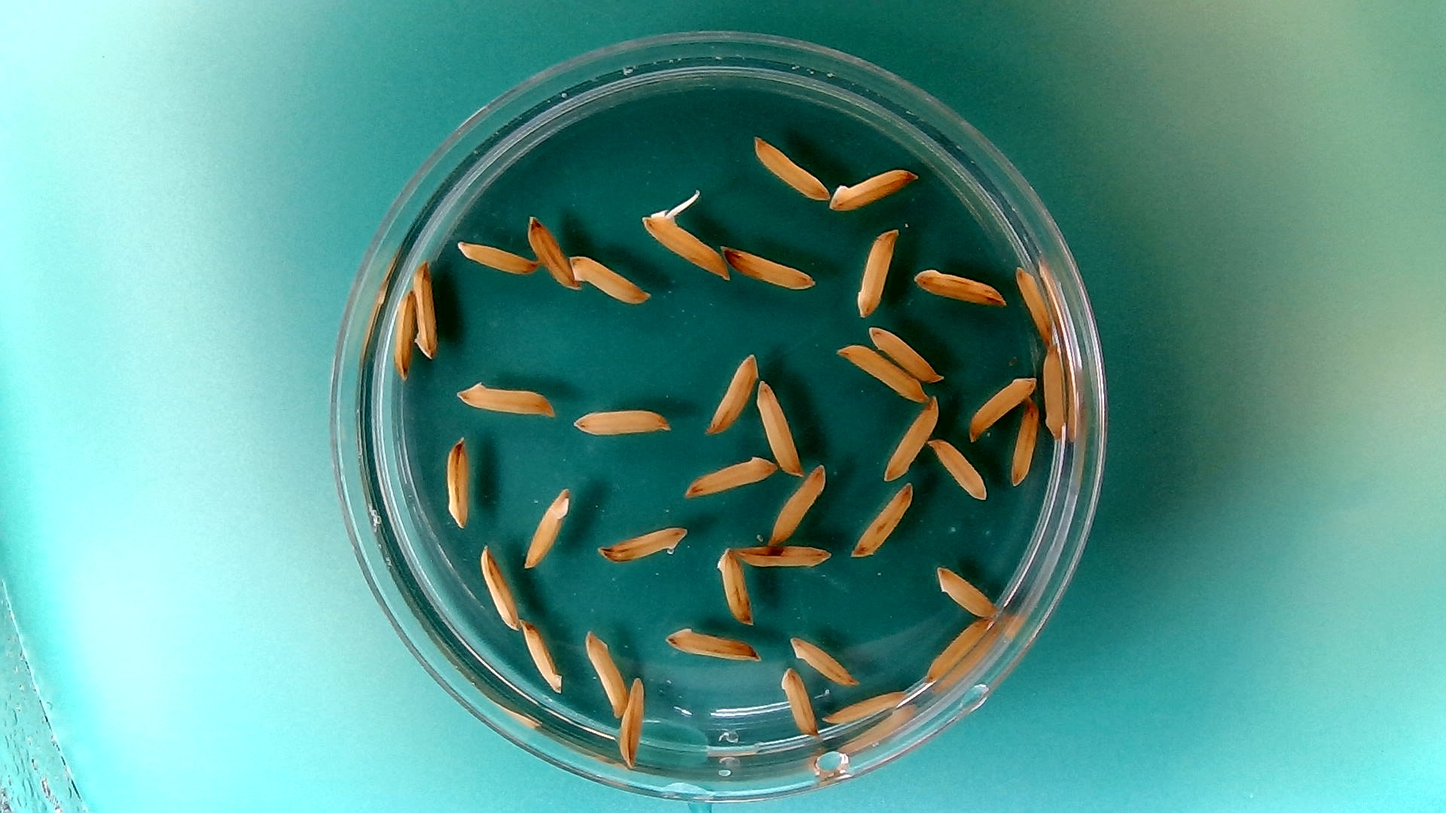no: (751, 133, 830, 202), (834, 342, 927, 399), (880, 393, 939, 481), (850, 480, 914, 559), (923, 614, 993, 684), (768, 461, 827, 544), (966, 373, 1040, 438), (826, 163, 919, 213), (754, 377, 801, 474), (706, 349, 759, 435), (569, 252, 651, 306), (853, 224, 900, 318), (452, 376, 557, 418), (721, 244, 816, 290), (582, 626, 628, 718), (683, 453, 777, 498), (522, 485, 571, 571), (867, 324, 940, 381), (523, 212, 575, 290), (596, 521, 690, 564), (911, 265, 1007, 307), (476, 541, 520, 631), (932, 562, 1001, 619), (663, 623, 761, 663), (929, 437, 989, 501), (570, 403, 673, 440), (788, 632, 859, 685), (518, 616, 566, 694), (1013, 263, 1054, 346), (453, 237, 537, 277), (714, 545, 755, 626), (821, 687, 907, 725), (410, 257, 441, 362), (731, 541, 832, 571), (1008, 396, 1040, 488), (616, 672, 646, 769), (441, 433, 471, 530), (780, 665, 819, 738), (1041, 343, 1068, 440), (389, 287, 417, 380)
yes: (638, 211, 734, 280)
